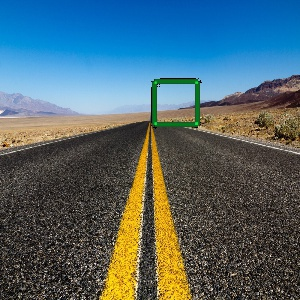square: (149, 76, 204, 129)
